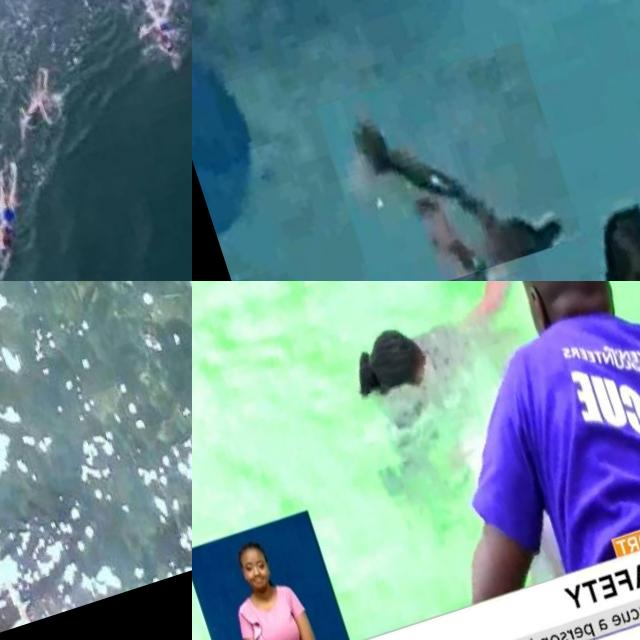drowning: (314, 41, 584, 281), (309, 281, 566, 421)
out of water: (372, 281, 640, 640)
swimming: (520, 220, 640, 281), (0, 160, 53, 279), (4, 57, 71, 136), (127, 0, 192, 66)
